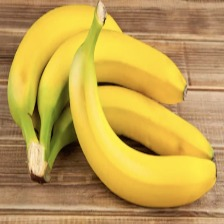banana: (17, 20, 186, 202)
